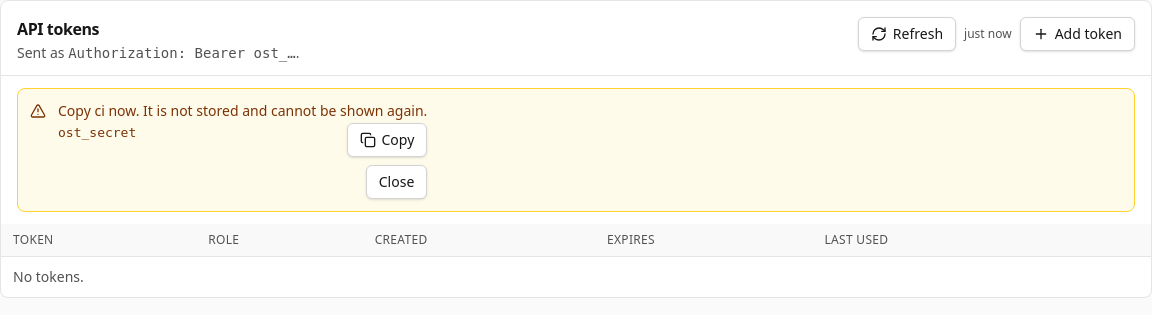
Scenario: TokensCard › copies the secret with the clipboard where the page may use it
This screenshot has width=1152, height=315.
Click the button "Copy" at (387,140), box [346,123,427,157]
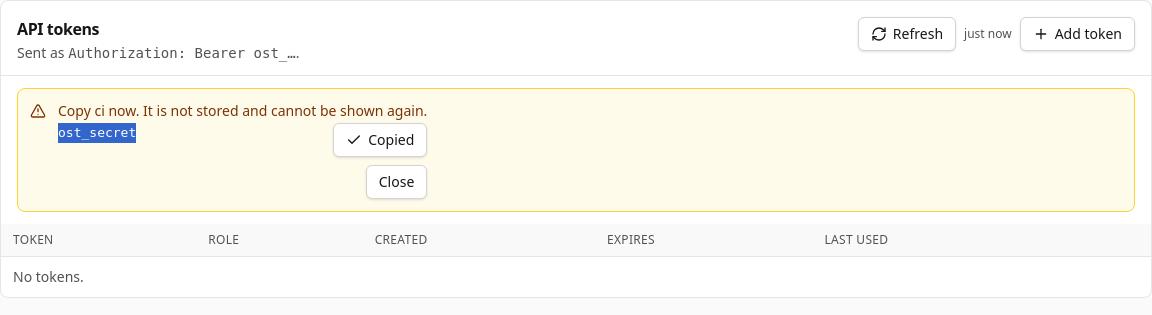
Expected: the button "Copied" is shown, [333,123,427,157]
